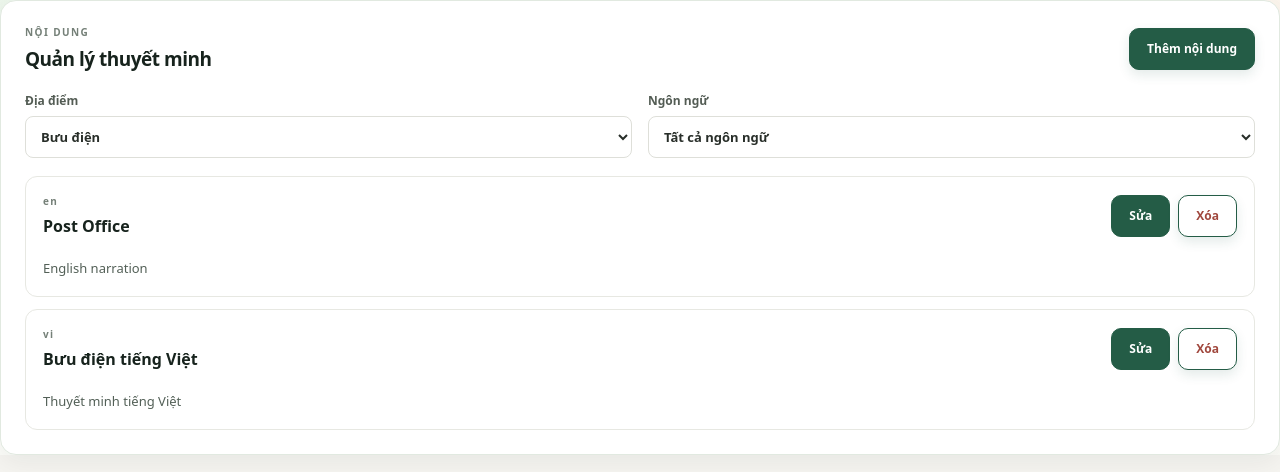
Test case: NarrationManagement audio selection › filters the narration list by the selected language
Expected: the heading "Post Office" is shown, [43, 215, 130, 237]
Expected: the heading "Bưu điện tiếng Việt" is shown, [43, 348, 198, 370]
Select "Tiếng Việt (vi)" in the dropdown named "Lọc theo ngôn ngữ": [952, 137] box [648, 116, 1255, 158]
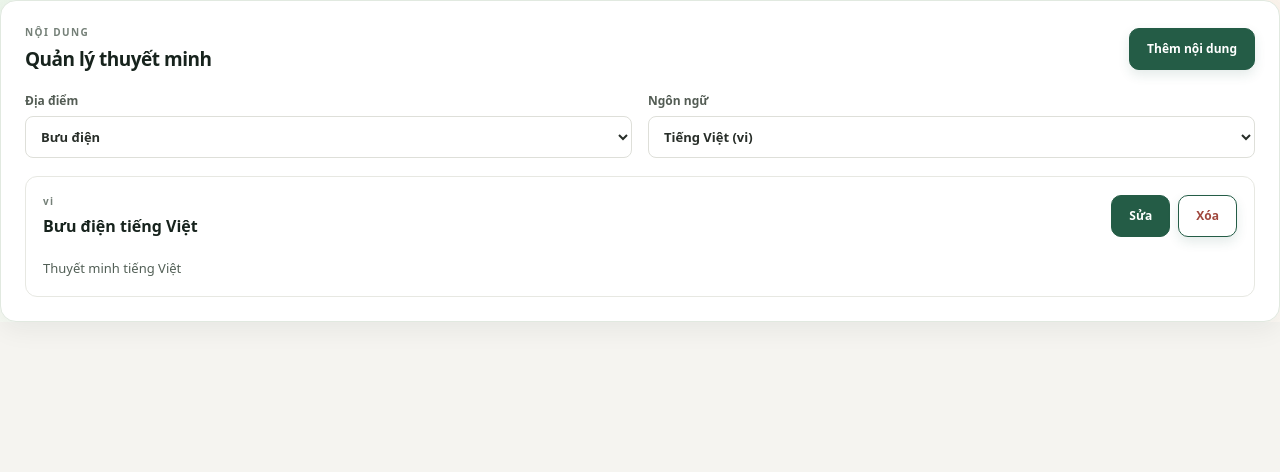
Expected: the heading "Bưu điện tiếng Việt" is shown, [43, 215, 198, 237]
Result: the heading "Post Office" is gone
